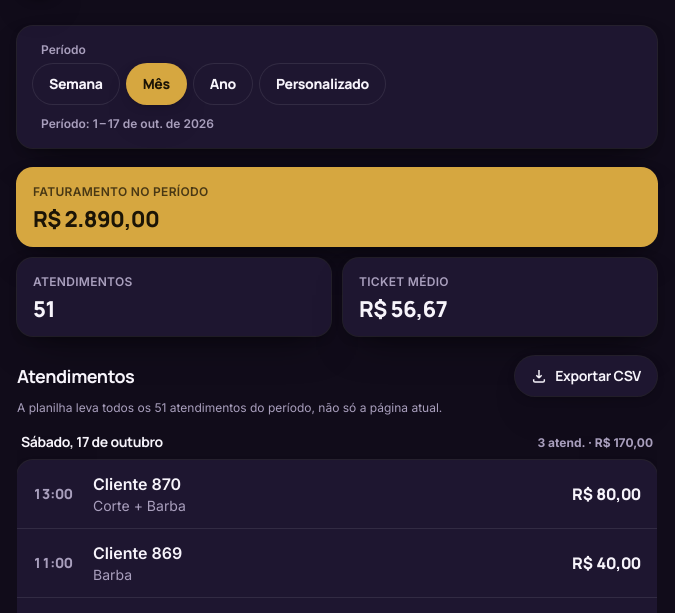
HistoryView › shows 50 items per page and lets the barber pick 100
Click the radio button labelled "Ano". click: (223, 84)
box: [194,64,252,104]
(page scrolled)
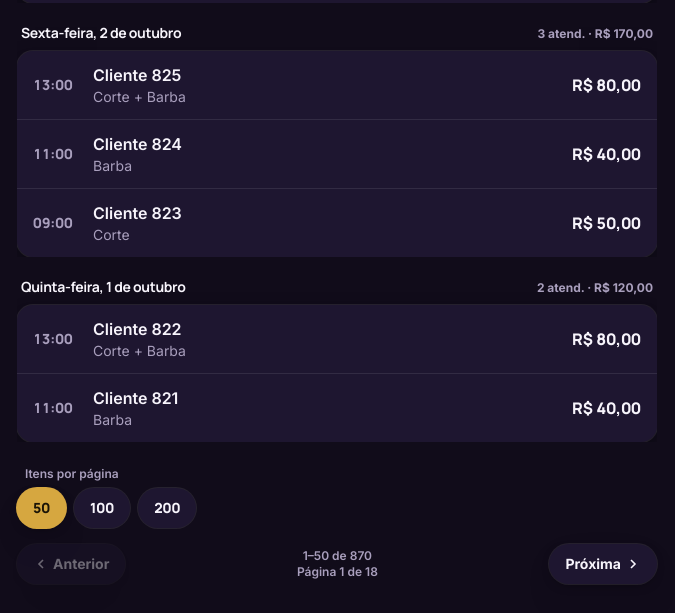
Expected: the text "1–50 de 870" is shown, [297,548,378,564]
Click the radio button labelled "100". click: (102, 508)
box: [74,488,130,528]
(page scrolled)
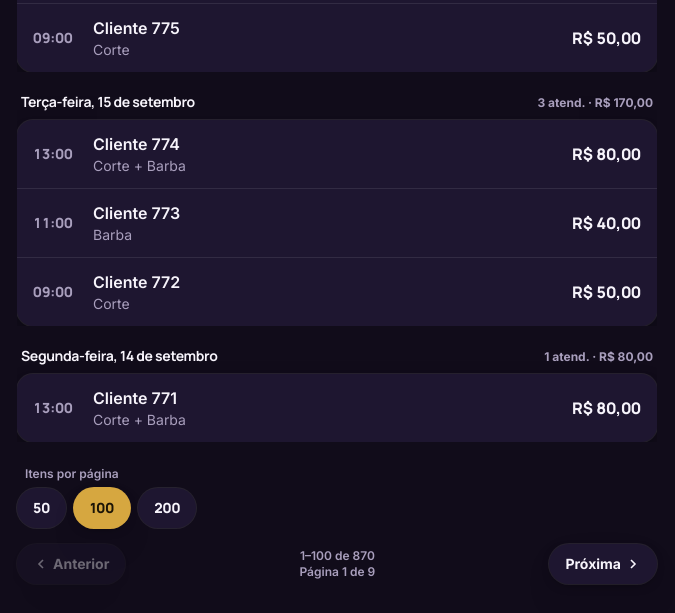
Now the text "1–100 de 870" is shown, box [300,548,375,564]
